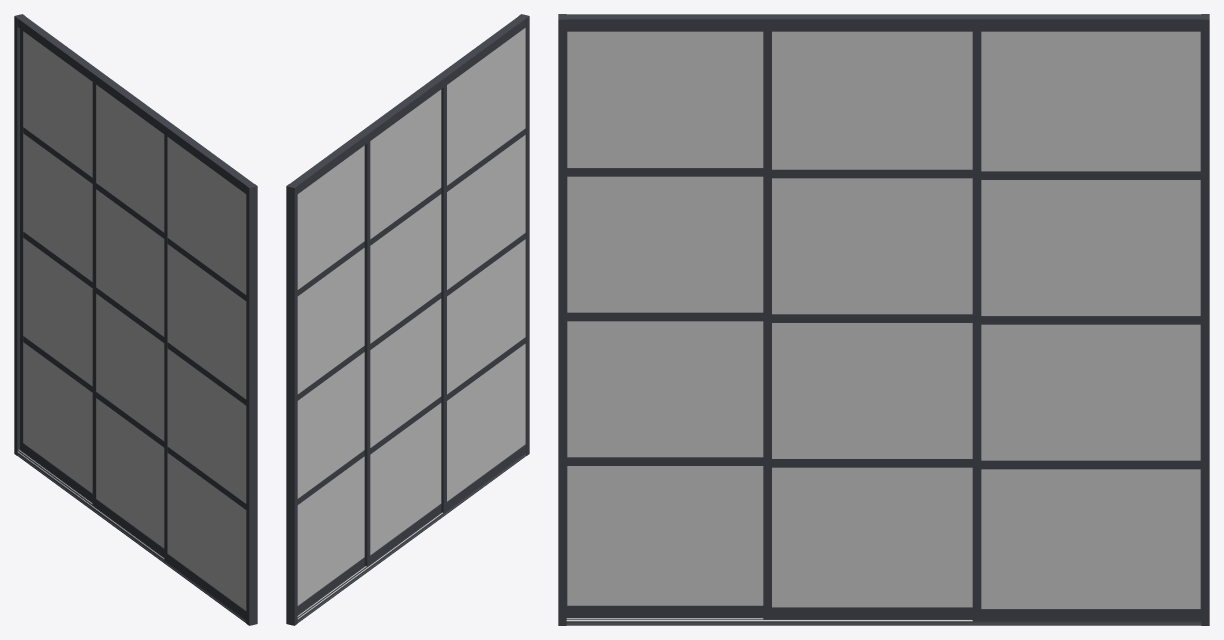
The model's file is Nebbiolo_Steel_Look_Doors_Left.glb.
3 views of the same model, side by side, from view 1: azimuth 30°, elevation 25°; view 2: azimuth 150°, elevation 25°; view 3: azimuth 270°, elevation 25° (orthographic). The views are drawn at different scales.
Parts seen in each view (by area): view 1: steel_door_left_400_250; view 2: steel_door_left_400_250; view 3: steel_door_left_400_250.
Boxes of the visible parts, x1,y1,x2,y2 form: steel_door_left_400_250: [14, 14, 257, 625]; steel_door_left_400_250: [286, 14, 529, 625]; steel_door_left_400_250: [558, 14, 1209, 625].
Size of the model in its own units: 0.0501 by 2.5 by 2.43.
Materials: 3 (1 with a texture image).
